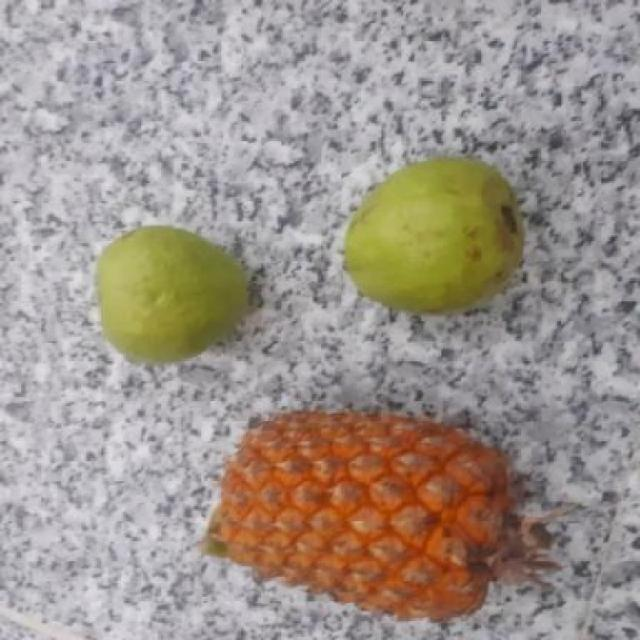guava: (346, 160, 526, 312), (96, 228, 259, 362)
pineapple: (205, 404, 510, 628)
